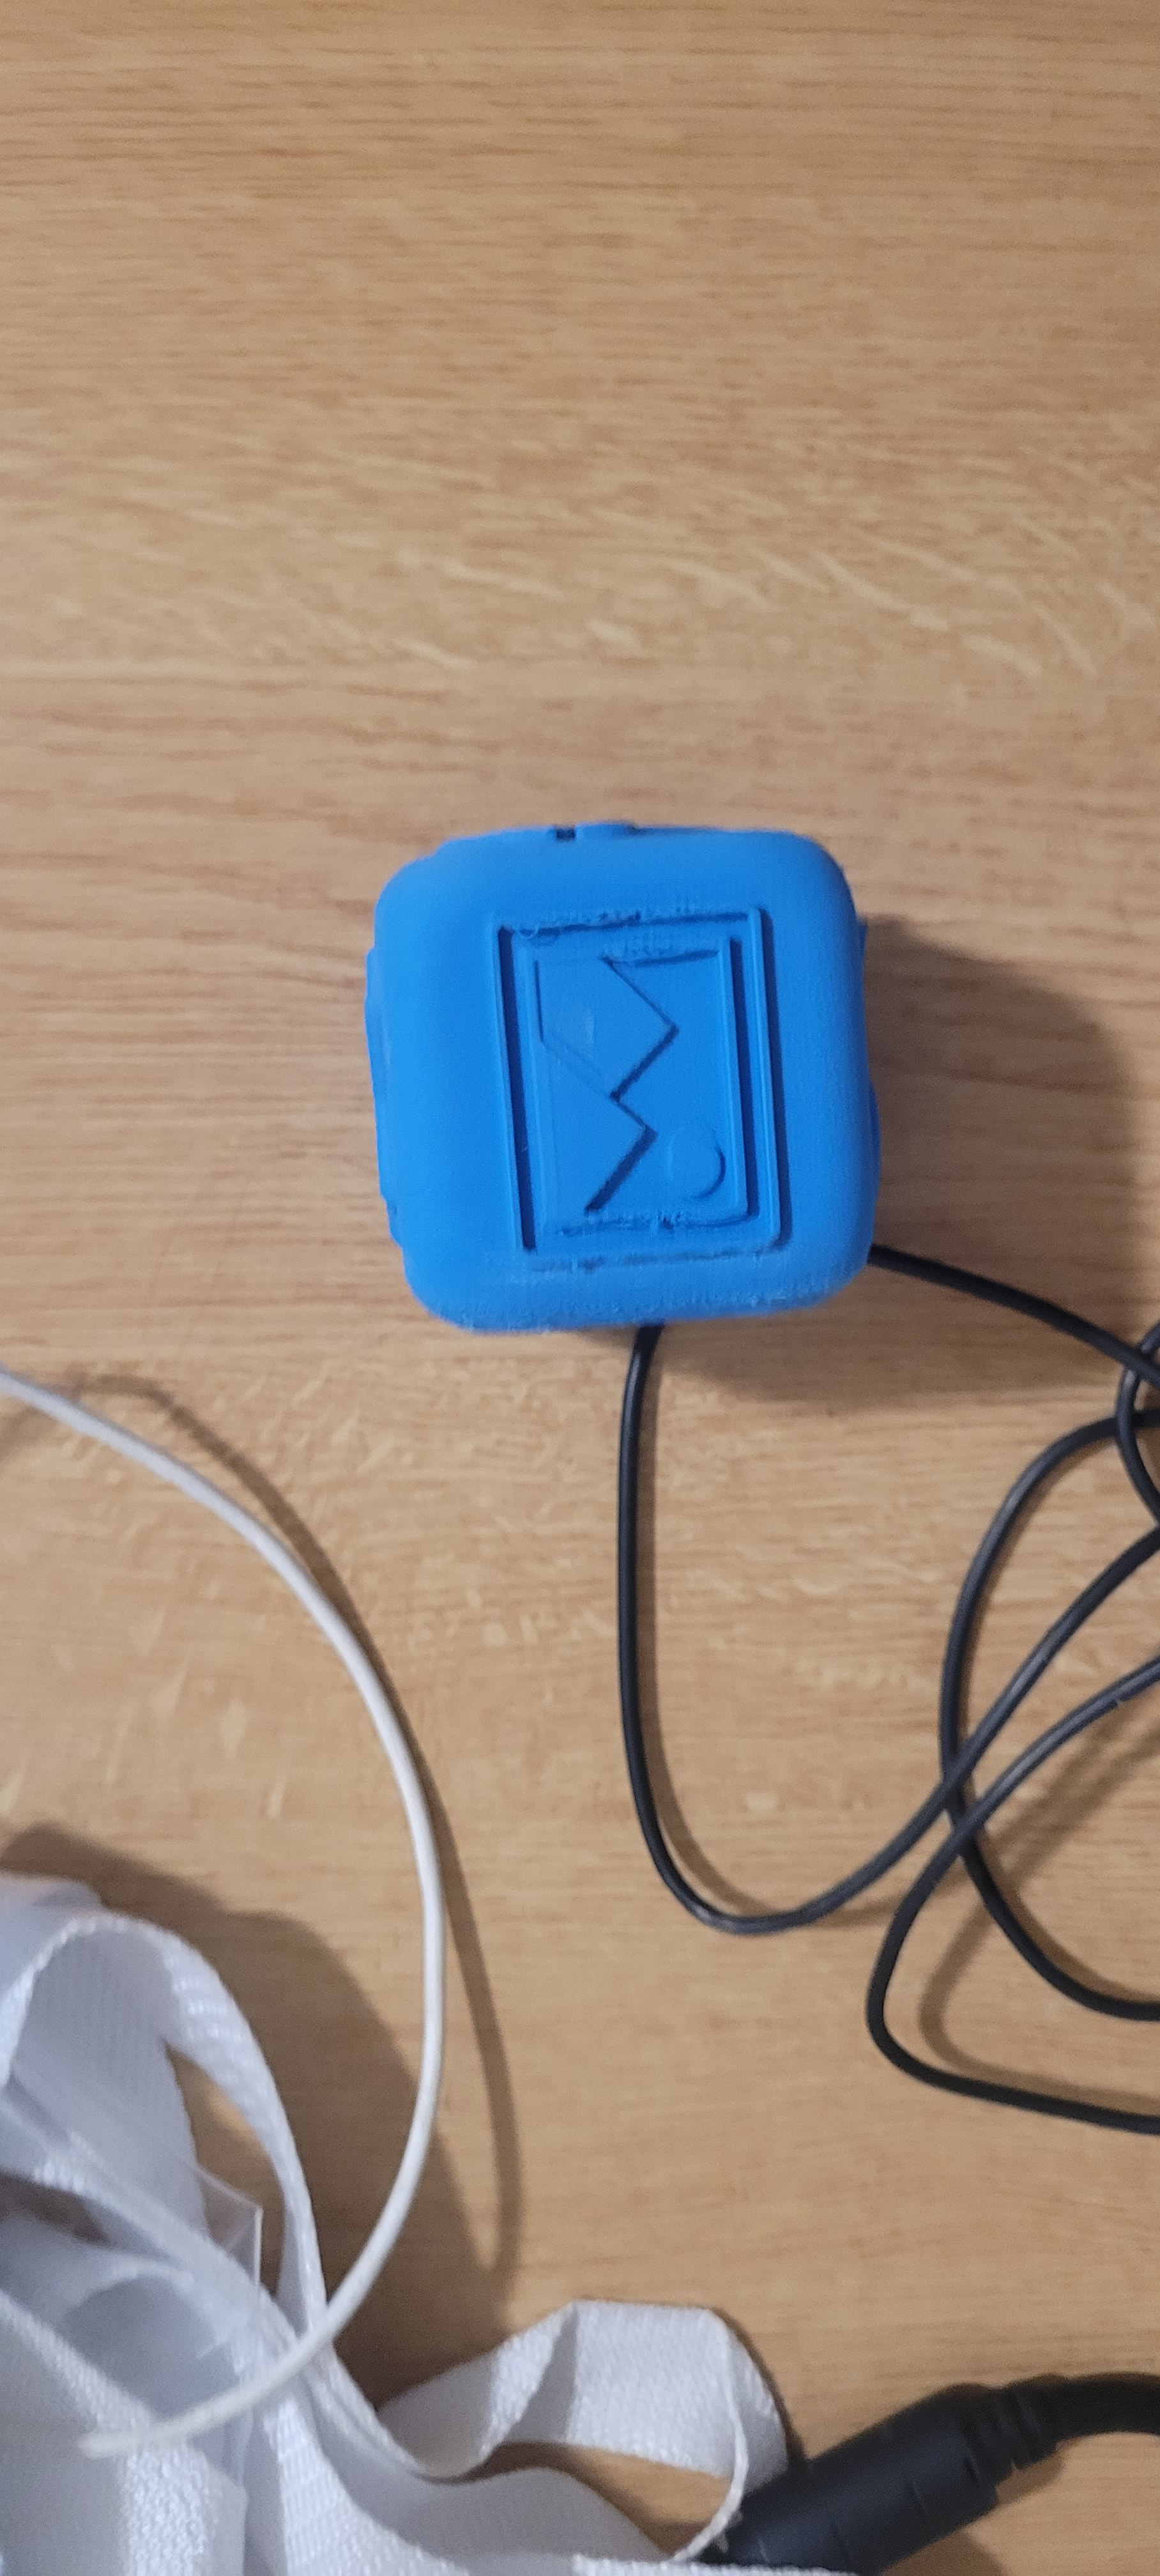Story: (457, 877, 810, 1245)
